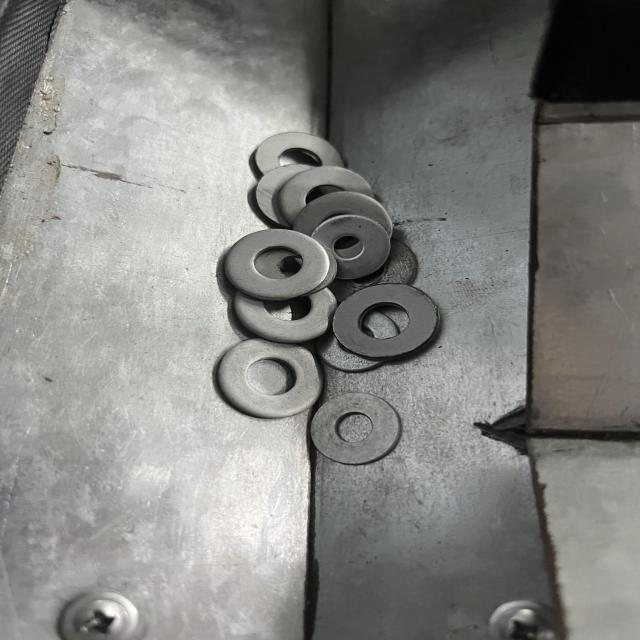washer: (224, 228, 330, 300)
